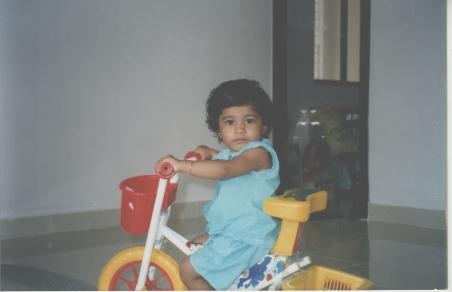without_mask: (209, 97, 275, 155)
